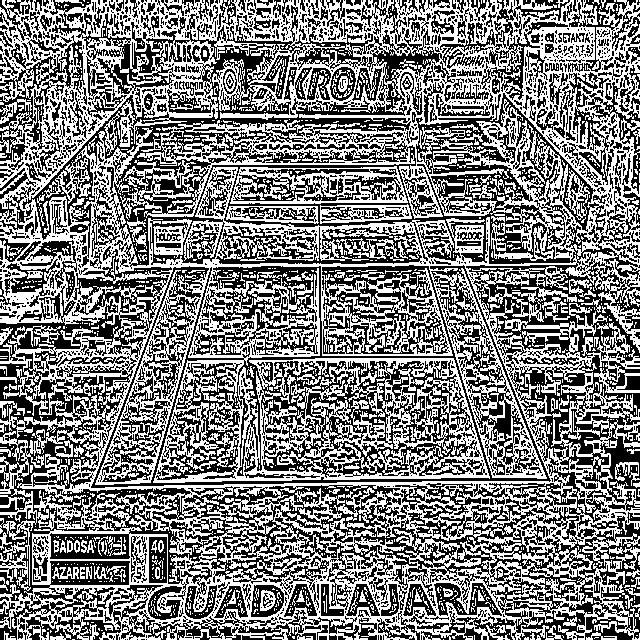left side: (397, 164, 549, 480), (92, 165, 239, 486)
player: (234, 346, 262, 476), (406, 110, 420, 176)
